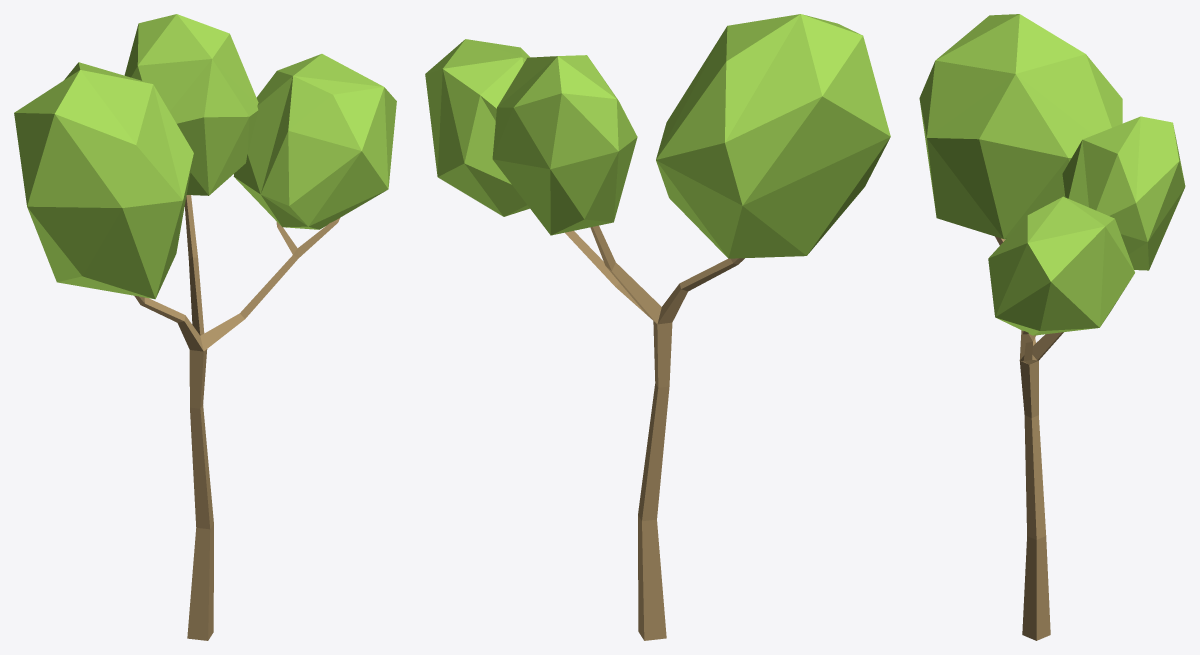
The model's file is Random_Tree_s_04.fbx.
The picture shows the model from 3 angles, left to right: view 1: azimuth 30°, elevation 25°; view 2: azimuth 150°, elevation 25°; view 3: azimuth 270°, elevation 25°; orthographic projection. The views are drawn at different scales.
Parts seen in each view (by area): view 1: Random_Tree_s_04; view 2: Random_Tree_s_04; view 3: Random_Tree_s_04.
Part boxes in pixels (x1,y1,x2,y2): Random_Tree_s_04: (14, 14, 396, 640); Random_Tree_s_04: (425, 14, 890, 640); Random_Tree_s_04: (919, 14, 1185, 640).
Size of the model in its own units: 201 by 288 by 123.
